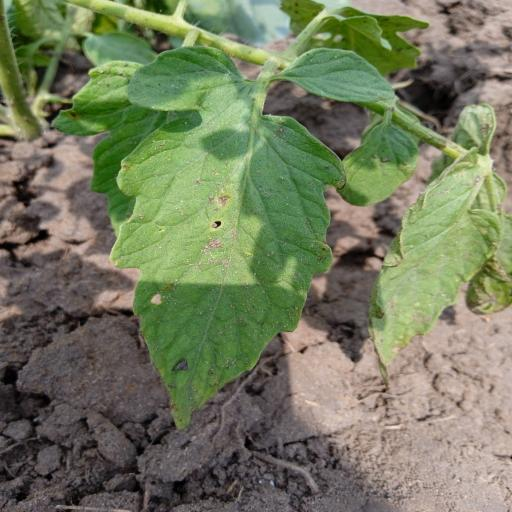Tomato_Mildiou: (104, 50, 354, 438)
